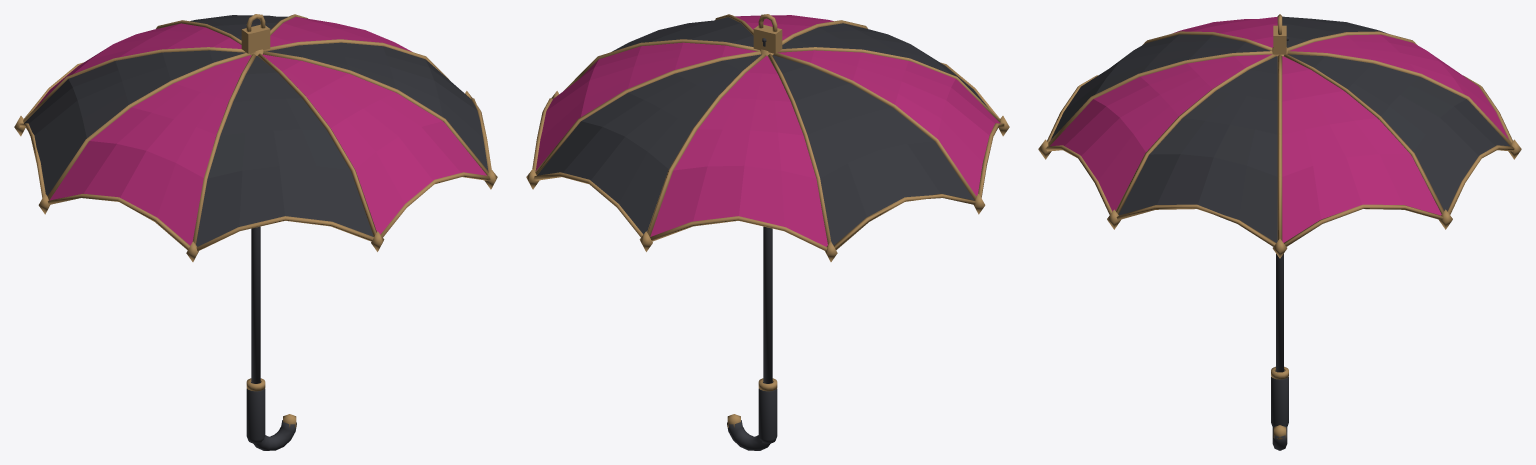
The model's file is umbrella-keep.glb.
The picture shows the model from 3 angles, left to right: view 1: azimuth 30°, elevation 25°; view 2: azimuth 150°, elevation 25°; view 3: azimuth 270°, elevation 25°; orthographic projection. The views are drawn at different scales.
Parts seen in each view (by area): view 1: spin, umbrella_root; view 2: spin, umbrella_root; view 3: spin, umbrella_root.
Boxes of the visible parts, bbox=[...] form: spin: bbox=[14, 14, 497, 261]; umbrella_root: bbox=[246, 226, 296, 450]; spin: bbox=[526, 14, 1009, 261]; umbrella_root: bbox=[727, 226, 777, 450]; spin: bbox=[1038, 14, 1521, 258]; umbrella_root: bbox=[1271, 254, 1288, 450].
Bounding box in the file's own units: 1.55 × 1.5 × 1.55.
